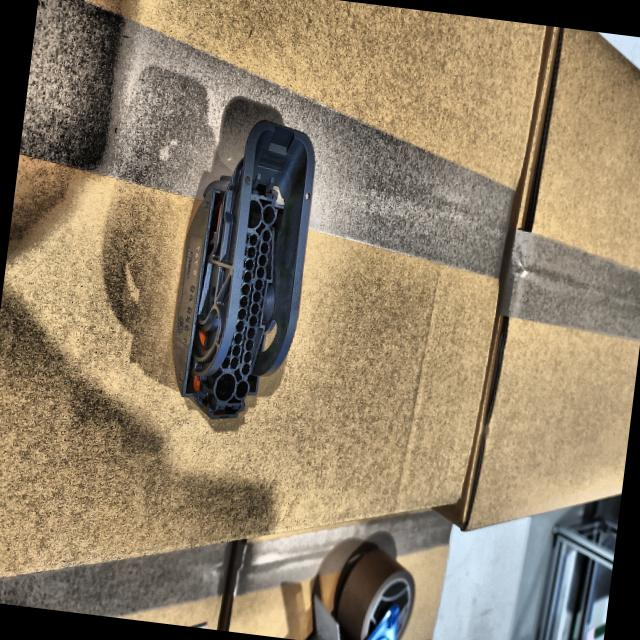P38: (172, 120, 313, 418)
